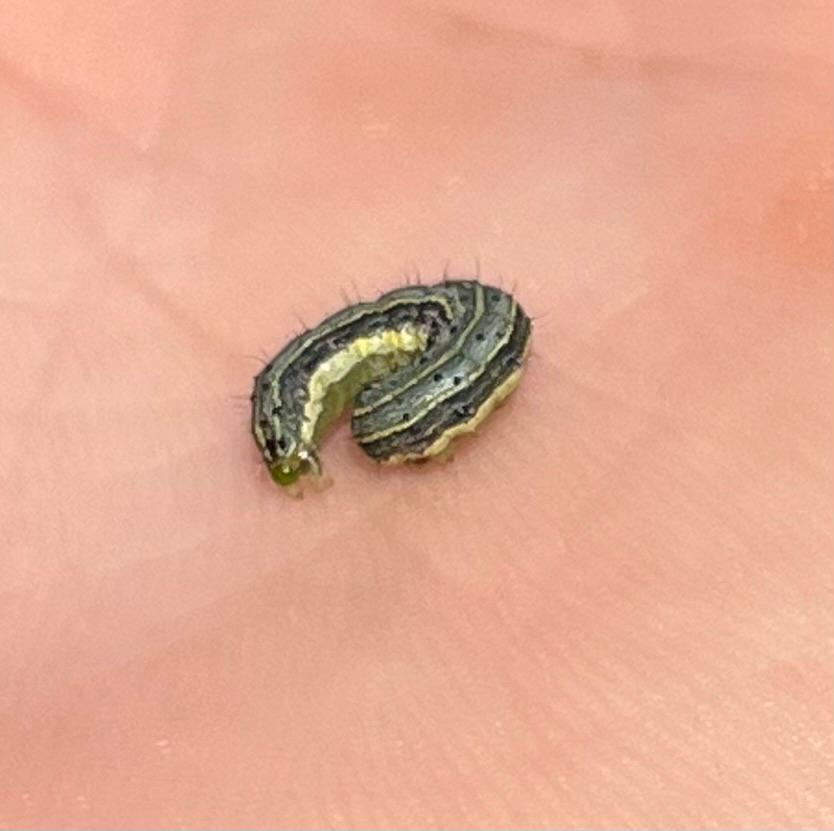caterpillars: (202, 220, 570, 534)
